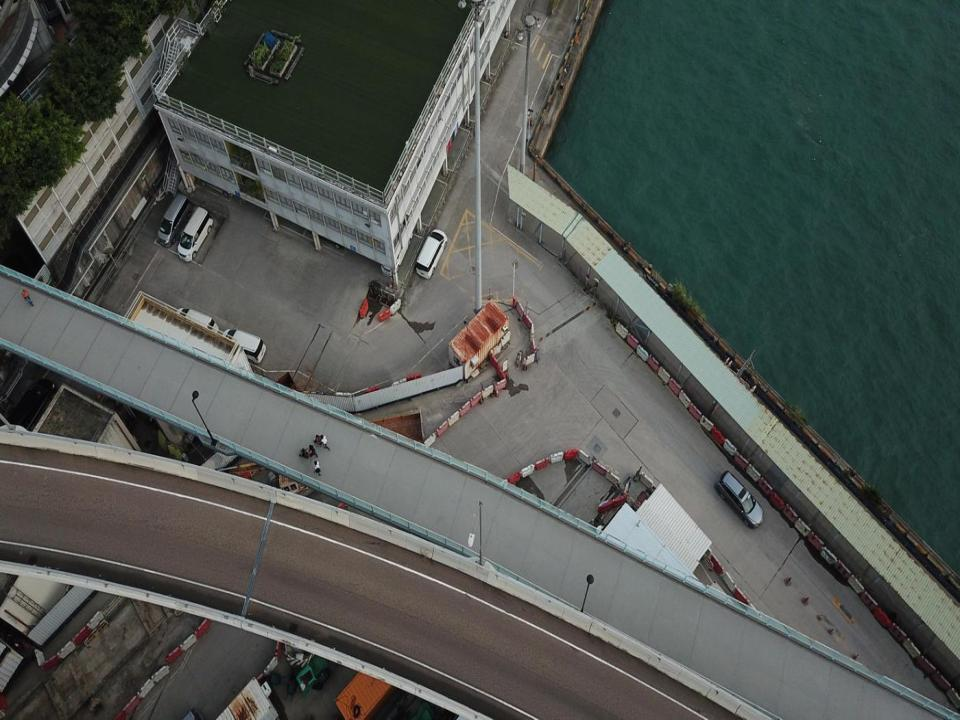car: (309, 218, 349, 248)
truck: (335, 627, 420, 719), (317, 407, 424, 462), (278, 447, 366, 493), (198, 677, 278, 719)
van: (715, 471, 764, 528), (179, 205, 214, 263), (156, 193, 192, 248), (218, 327, 266, 363), (381, 224, 413, 276), (416, 229, 448, 279), (174, 307, 218, 341)
